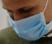with_mask: (2, 2, 52, 44)
